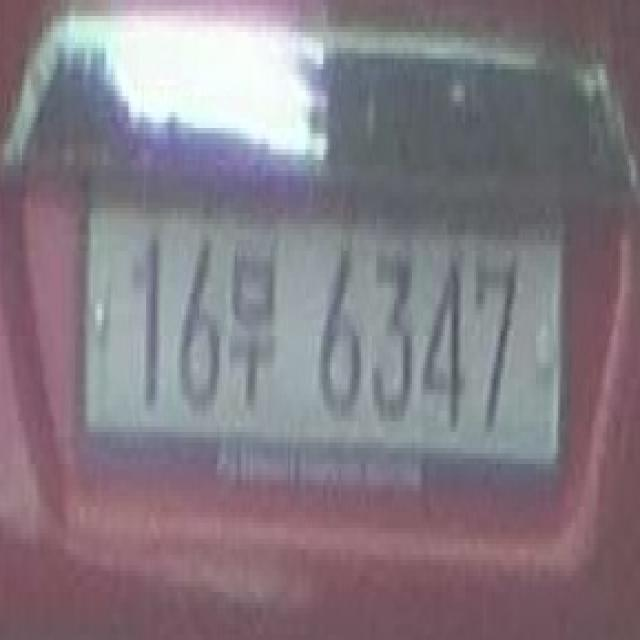1: (124, 219, 168, 416)
3: (366, 240, 416, 432)
4: (418, 245, 472, 443)
6: (312, 229, 366, 427), (173, 224, 226, 421)
7: (472, 245, 520, 448)
license_plate: (75, 187, 565, 501)
mu: (226, 234, 279, 426)
